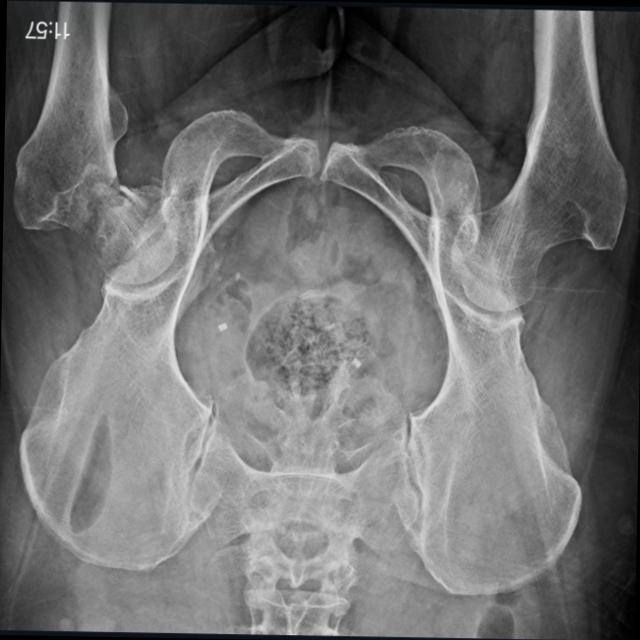left-neck: (10, 0, 128, 236), (89, 185, 180, 284)
normal-right: (448, 9, 627, 309)
